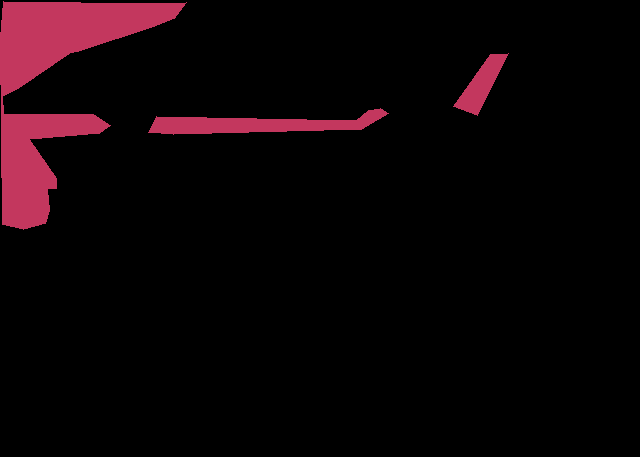Airplane: (0, 1, 508, 229)
